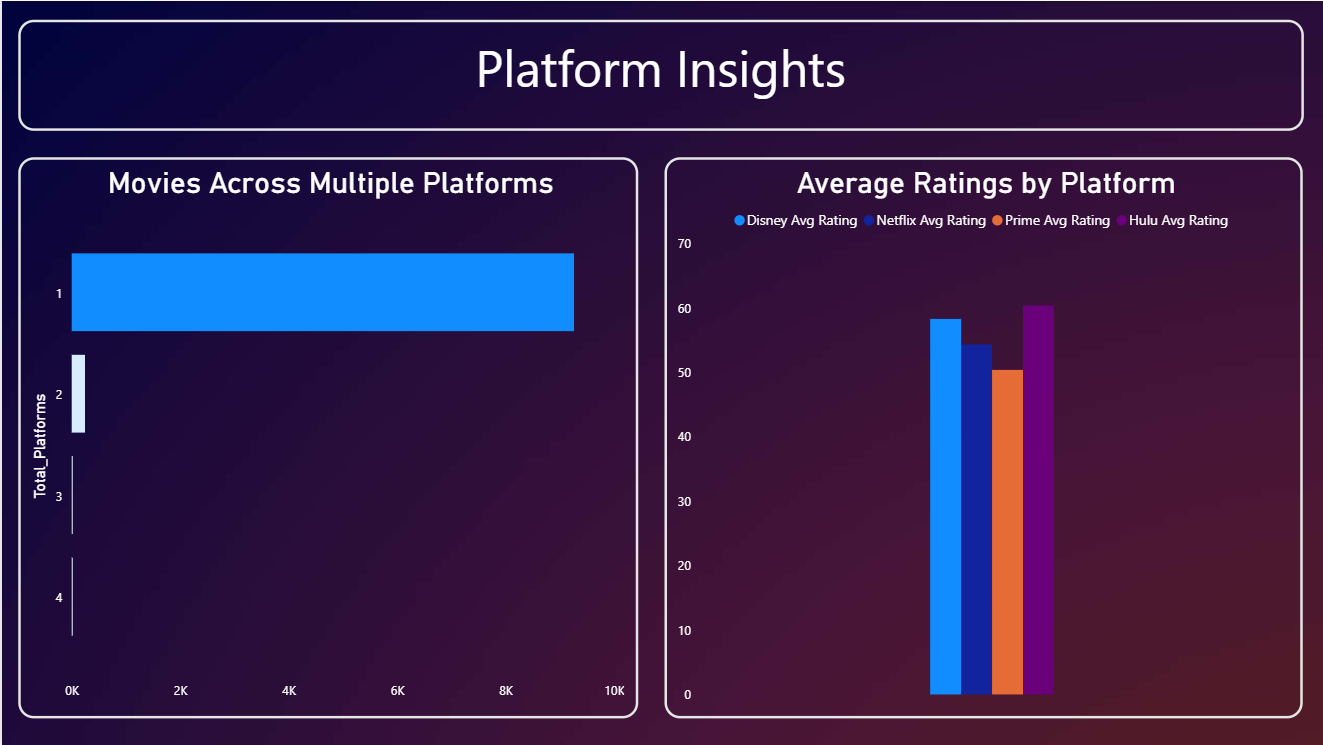

What the dashboard file says about the page in this screenshot:
{"tool":"powerbi","page":{"name":"Platform Insights","canvas":[1280,720],"ordinal":2},"visuals":[{"type":"clusteredBarChart","title":"Movies Across Multiple Platforms","fields":{"Category":["cleaned_ott_dataset.Total_Platforms"],"Y":["Count(cleaned_ott_dataset.Title)"]},"box":[15.3,150.3,598.3,541.2],"z":0},{"type":"clusteredColumnChart","title":"Average Ratings by Platform","fields":{"Y":["cleaned_ott_dataset.Disney Avg Rating","cleaned_ott_dataset.Netflix Avg Rating","cleaned_ott_dataset.Prime Avg Rating","cleaned_ott_dataset.Hulu Avg Rating"]},"box":[640,150.3,616.3,541.2],"z":1},{"type":"textbox","box":[15.3,18.1,1241,107.1],"z":2}]}

Visuals, with their boxes in screenshot pixels (x1, y1, x2, y2), scaled from the page's 1280x720 canvas onto the 1323x745 screenshot:
"Movies Across Multiple Platforms" clusteredBarChart: bbox(16, 156, 634, 716)
"Average Ratings by Platform" clusteredColumnChart: bbox(662, 156, 1299, 716)
textbox: bbox(16, 19, 1299, 130)
